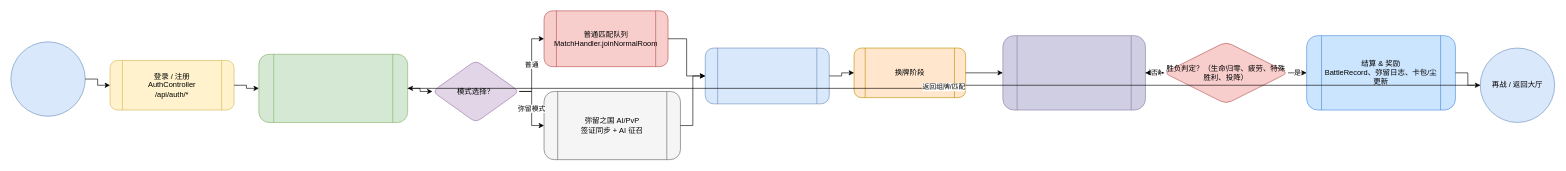
Some shapes in this 1566 by 171 pixel diagram are drawn without their labels. Here are the shapes that lost their labels. From the top down, the centre of each, then its label:
At [47,78]: "玩家准备".
At [333,88]: "卡组与收藏准备 UserDeckController / UserCollectionController DeckEditHandler 预设加载".
At [767,75]: "房间匹配成功 GameInfo.zeroTurn".
At [1073,72]: "回合循环 startTurn → play/attack/discover/skill → endTurn".
